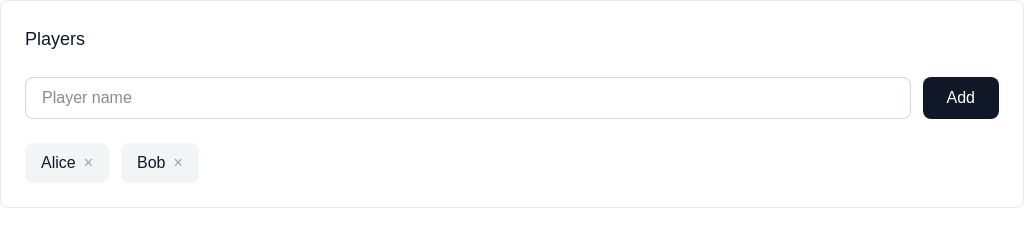
it: PlayerManagement › editing players › enters edit mode when player name is clicked
Step 1. Click the text "Alice" → [58, 163], box top-left (41, 151), bottom-right (76, 175)
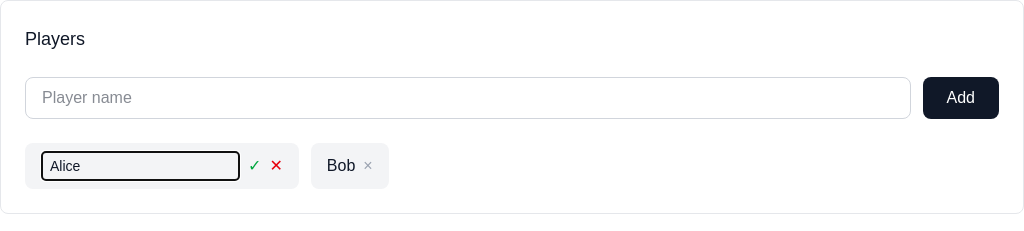
Check: the field showing "Alice" is shown, box top-left (41, 151), bottom-right (240, 181)
Check: the button "✓" is shown, box top-left (248, 154), bottom-right (261, 178)
Check: the button "✕" is shown, box top-left (269, 154), bottom-right (283, 178)
